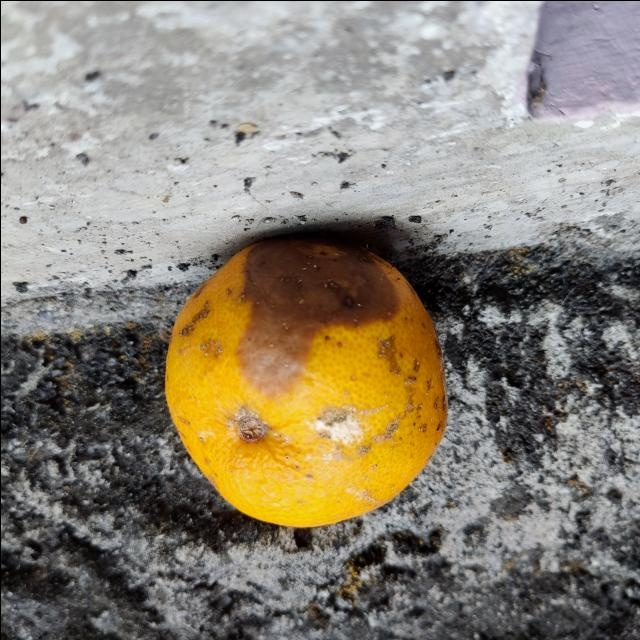agrume: (164, 228, 449, 527)
